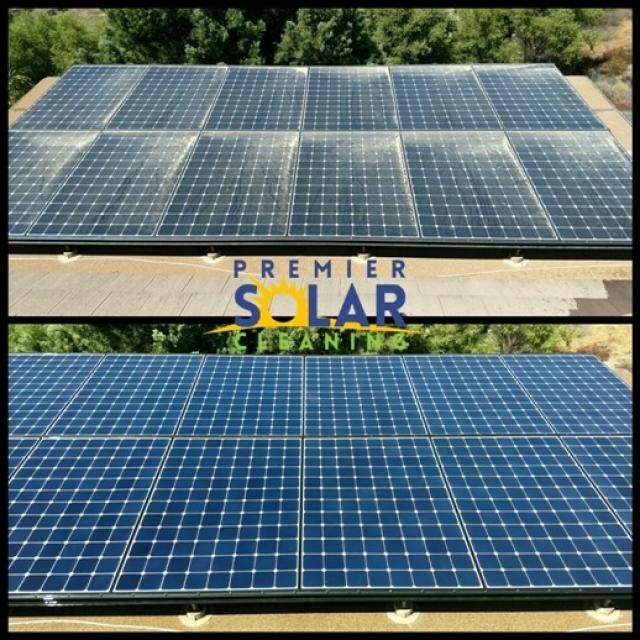clean-solar-panel: (11, 356, 631, 603)
dust-solar-panel: (11, 65, 631, 245)
